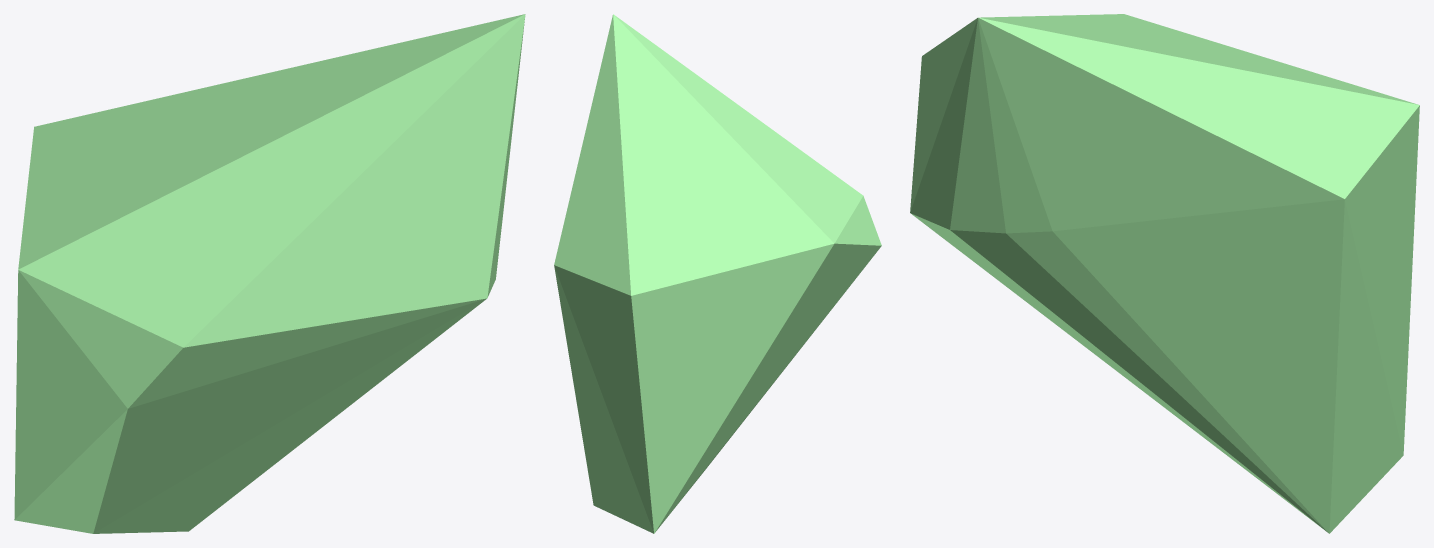
Rendered from UMIRobot_UMIRobot_link_3_convex_coll_3.dae.
The picture shows the model from 3 angles, left to right: view 1: azimuth 30°, elevation 25°; view 2: azimuth 150°, elevation 25°; view 3: azimuth 270°, elevation 25°; orthographic projection. The views are drawn at different scales.
Visible parts, largest first — view 1: node; view 2: node; view 3: node.
Boxes of the visible parts, <box> form: node: <box>14,14,525,533</box>; node: <box>554,14,881,533</box>; node: <box>910,14,1419,533</box>.
Bounding box in the file's own units: 0.0156 × 0.0213 × 0.0167.
